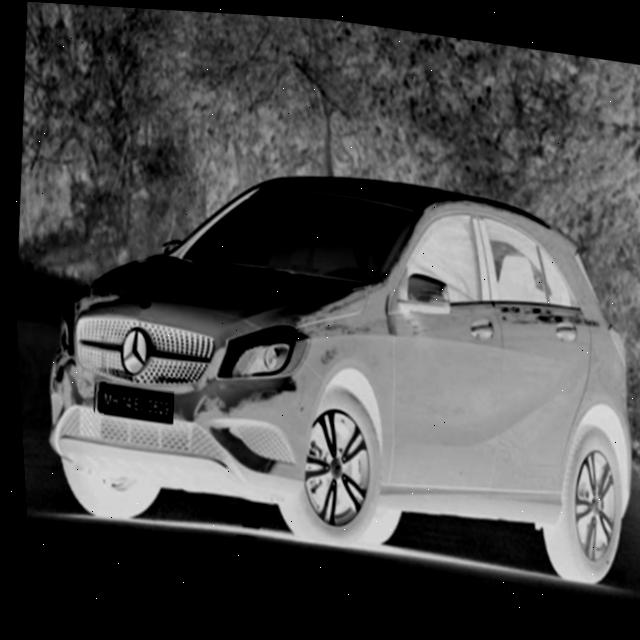Non_registered: (88, 378, 171, 424)
